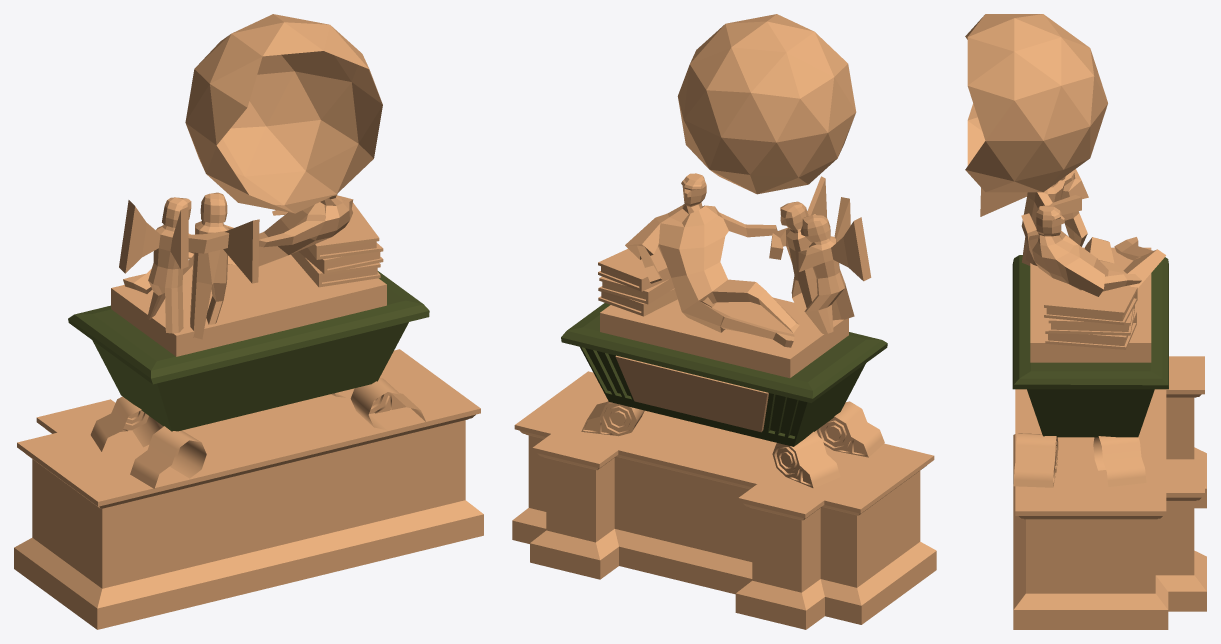
The model's file is tumulo.glb.
3 renders of one model, left to right at view 1: azimuth 30°, elevation 25°; view 2: azimuth 150°, elevation 25°; view 3: azimuth 270°, elevation 25°, orthographic. The views are drawn at different scales.
Parts seen in each view (by area): view 1: tumulo; view 2: tumulo; view 3: tumulo.
Boxes of the visible parts, <box> form: tumulo: <box>14,14,483,629</box>; tumulo: <box>512,14,936,629</box>; tumulo: <box>965,14,1206,629</box>.
Bounding box in the file's own units: 2.91 × 4.04 × 1.7.
